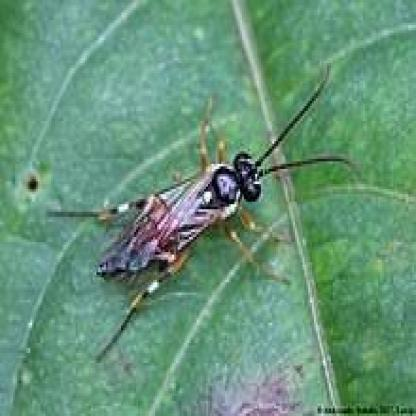sawfly: (43, 74, 378, 364)
